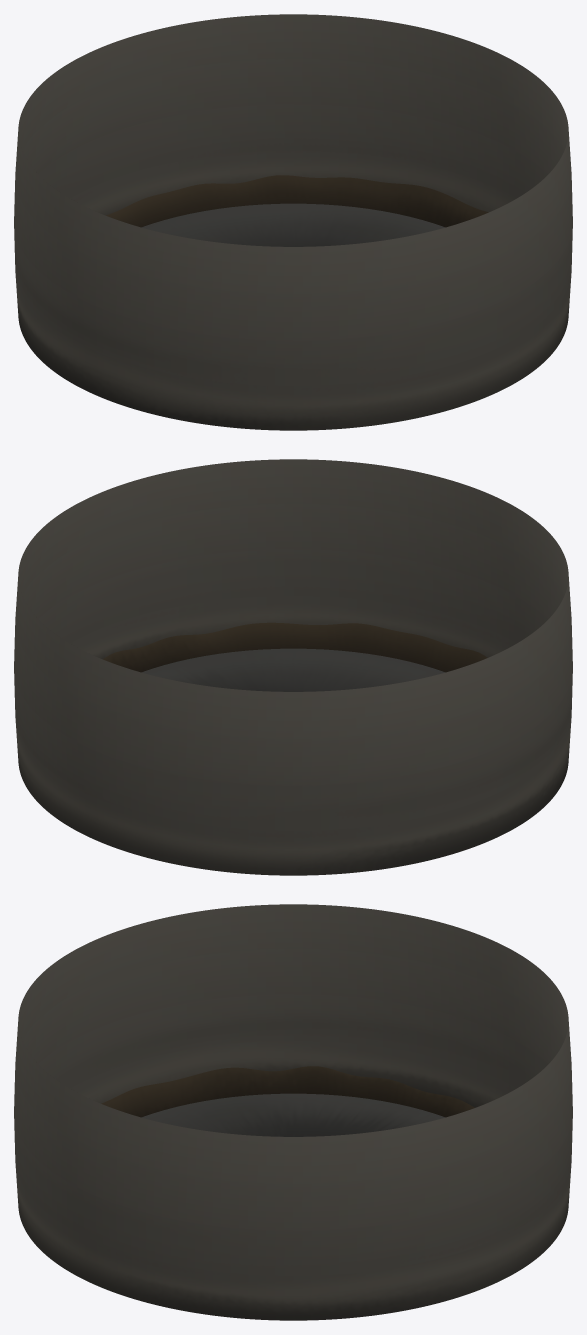
File: pressure-garden-panorama.glb
3 views of the same model, one above another, from view 1: azimuth 30°, elevation 25°; view 2: azimuth 150°, elevation 25°; view 3: azimuth 270°, elevation 25° (orthographic).
Parts seen in each view (by area): view 1: PressureGardenPanorama; view 2: PressureGardenPanorama; view 3: PressureGardenPanorama.
Part boxes in pixels (left/top/right/bottom): PressureGardenPanorama: left=14, top=14, right=572, bottom=430; PressureGardenPanorama: left=14, top=459, right=572, bottom=875; PressureGardenPanorama: left=14, top=904, right=572, bottom=1320.
Size of the model in its own units: 386 by 140 by 386.
Materials: 1 (1 with a texture image).
